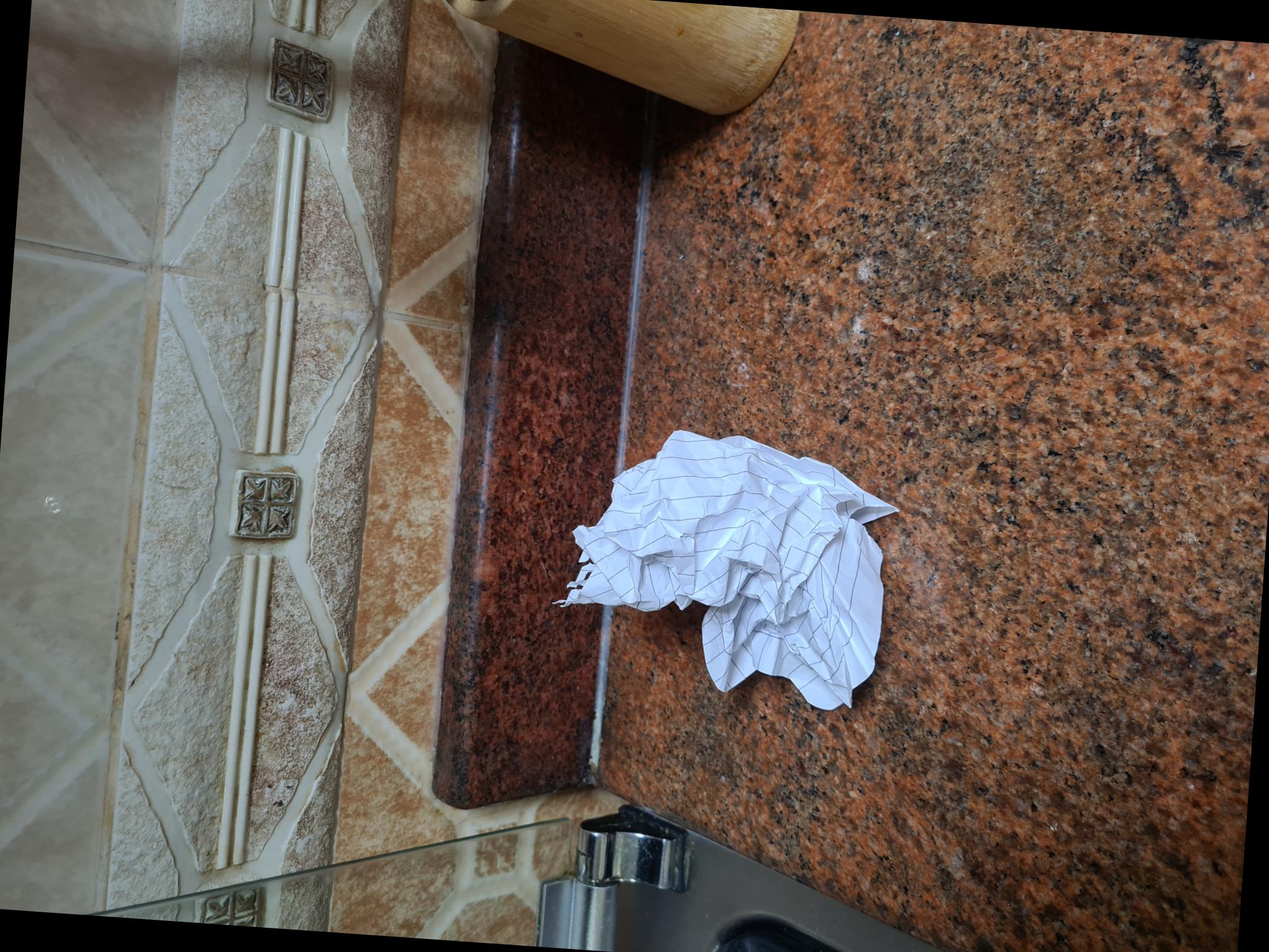Kertas: (232, 547, 511, 886)
